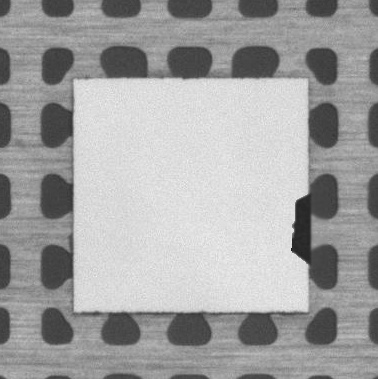DIE_BROKEN: (289, 193, 313, 265)
